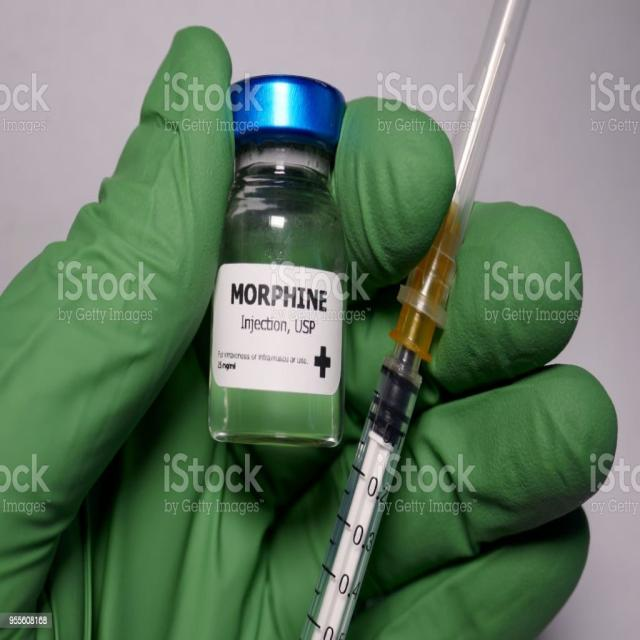B3: (324, 1, 572, 640), (192, 50, 360, 466)
